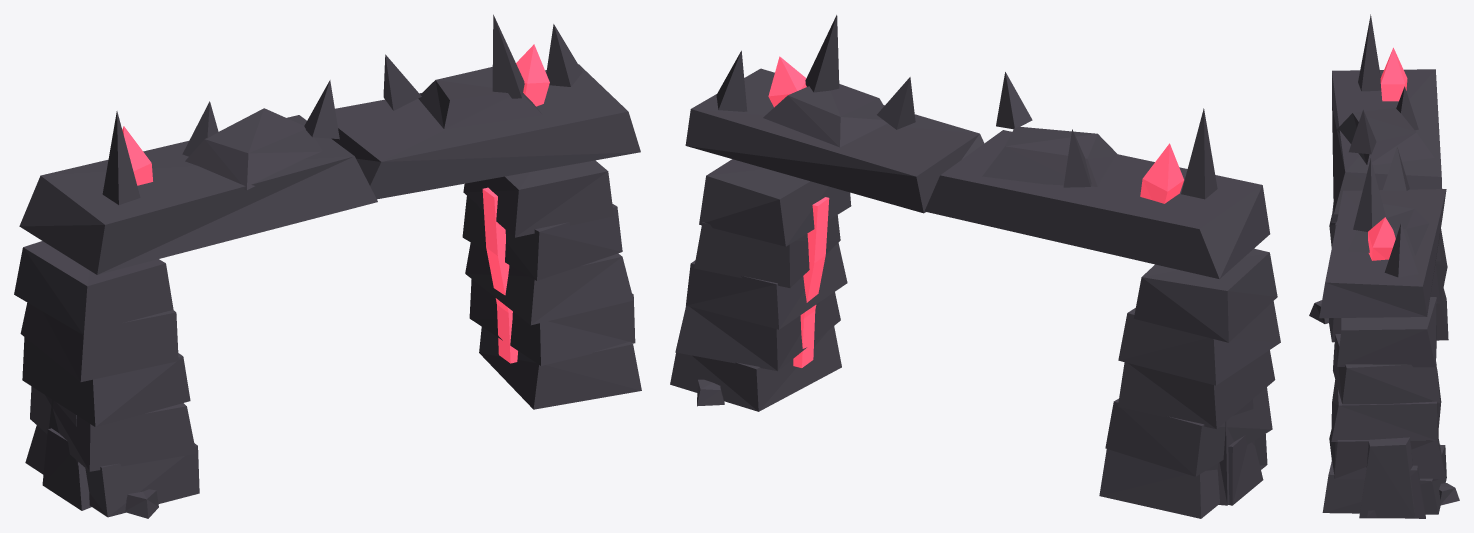
The model's file is DA_RiftGate.fbx.
3 renders of one model, left to right at view 1: azimuth 30°, elevation 25°; view 2: azimuth 150°, elevation 25°; view 3: azimuth 270°, elevation 25°, orthographic. The views are drawn at different scales.
Parts seen in each view (by area): view 1: DA_RiftGate_Stone, DA_RiftGate_Neon_Rift; view 2: DA_RiftGate_Stone, DA_RiftGate_Neon_Rift; view 3: DA_RiftGate_Stone, DA_RiftGate_Neon_Rift.
Boxes of the visible parts, x1,y1,x2,y2 form: DA_RiftGate_Stone: (14, 14, 641, 518); DA_RiftGate_Neon_Rift: (122, 44, 549, 363); DA_RiftGate_Stone: (670, 15, 1280, 518); DA_RiftGate_Neon_Rift: (768, 56, 1183, 367); DA_RiftGate_Stone: (1309, 14, 1459, 518); DA_RiftGate_Neon_Rift: (1368, 47, 1407, 260).
Size of the model in its own units: 28.38 by 18.07 by 8.01.
